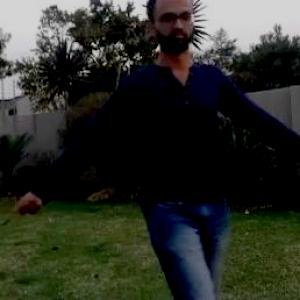land: (51, 8, 299, 282)
